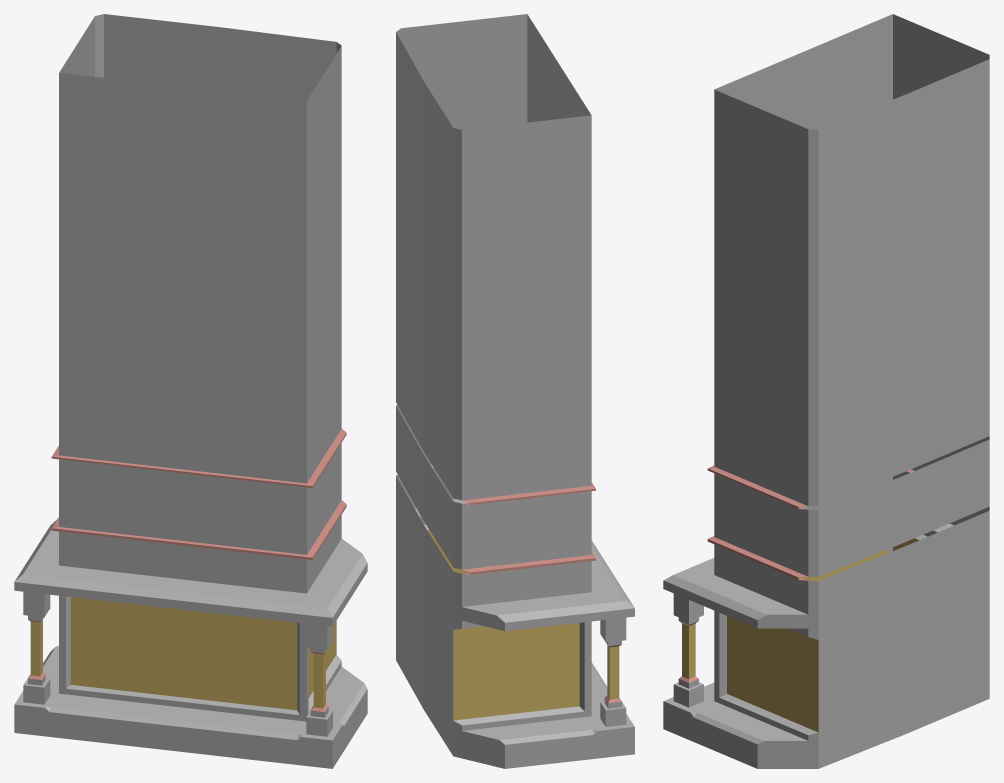
The model's file is cheminee.fbx.
The picture shows the model from 3 angles, left to right: view 1: azimuth 30°, elevation 25°; view 2: azimuth 150°, elevation 25°; view 3: azimuth 270°, elevation 25°; orthographic projection. The views are drawn at different scales.
Parts seen in each view (by area): view 1: Cube.002; view 2: Cube.002; view 3: Cube.002.
Part boxes in pixels (x1,y1,x2,y2): Cube.002: (14,14,367,768); Cube.002: (396,14,634,768); Cube.002: (663,14,989,768).
Bounding box in the file's own units: 0.09 × 0.1964 × 0.0907.
